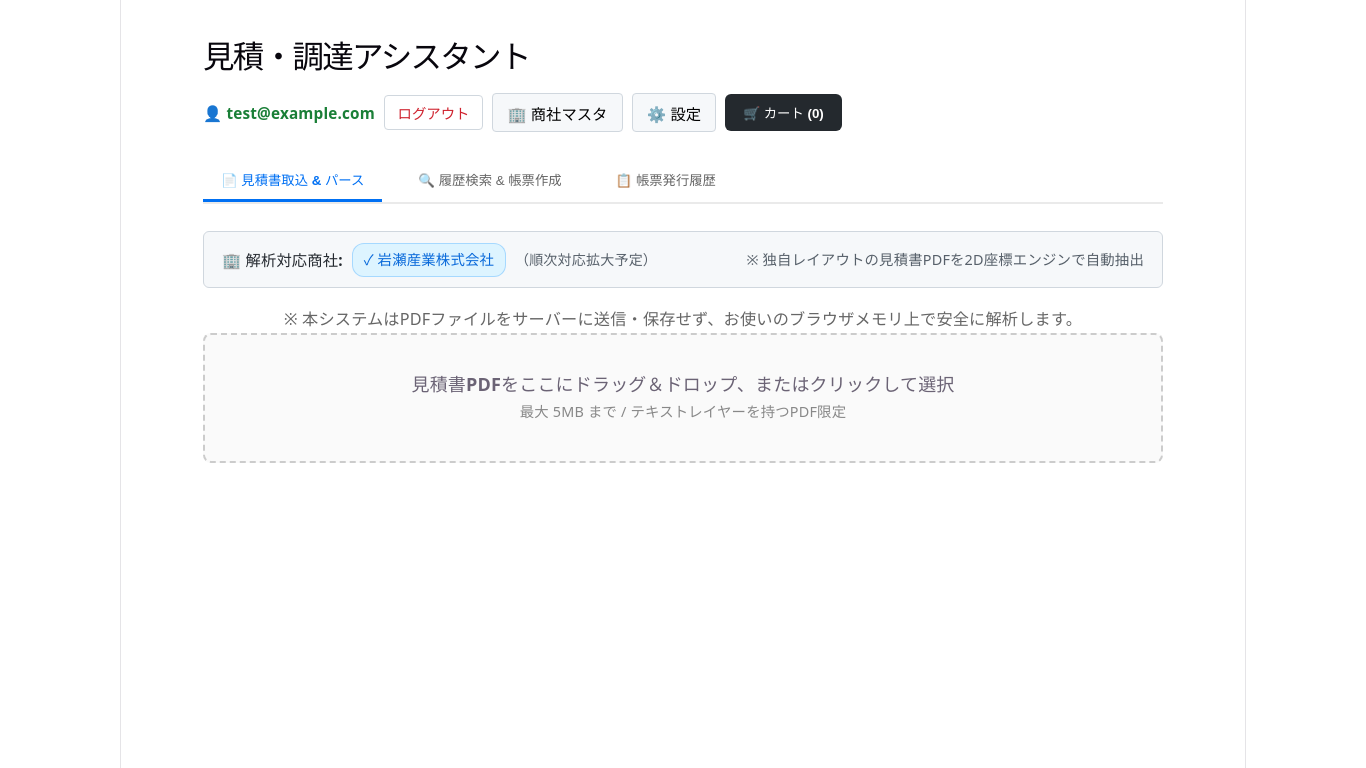
Test: Phase 9 カバレッジ補完テスト: App.tsx & ガードレール検証 › 設定モーダルの開閉およびログイン状態の表示が動作すること (REQ-012, REQ-017)
Expected: the text "👤 test@example.com" is shown, top-left (203, 100), bottom-right (375, 126)
Click the button "⚙️ 設定".
click(674, 113)  # box top-left (632, 93), bottom-right (716, 132)
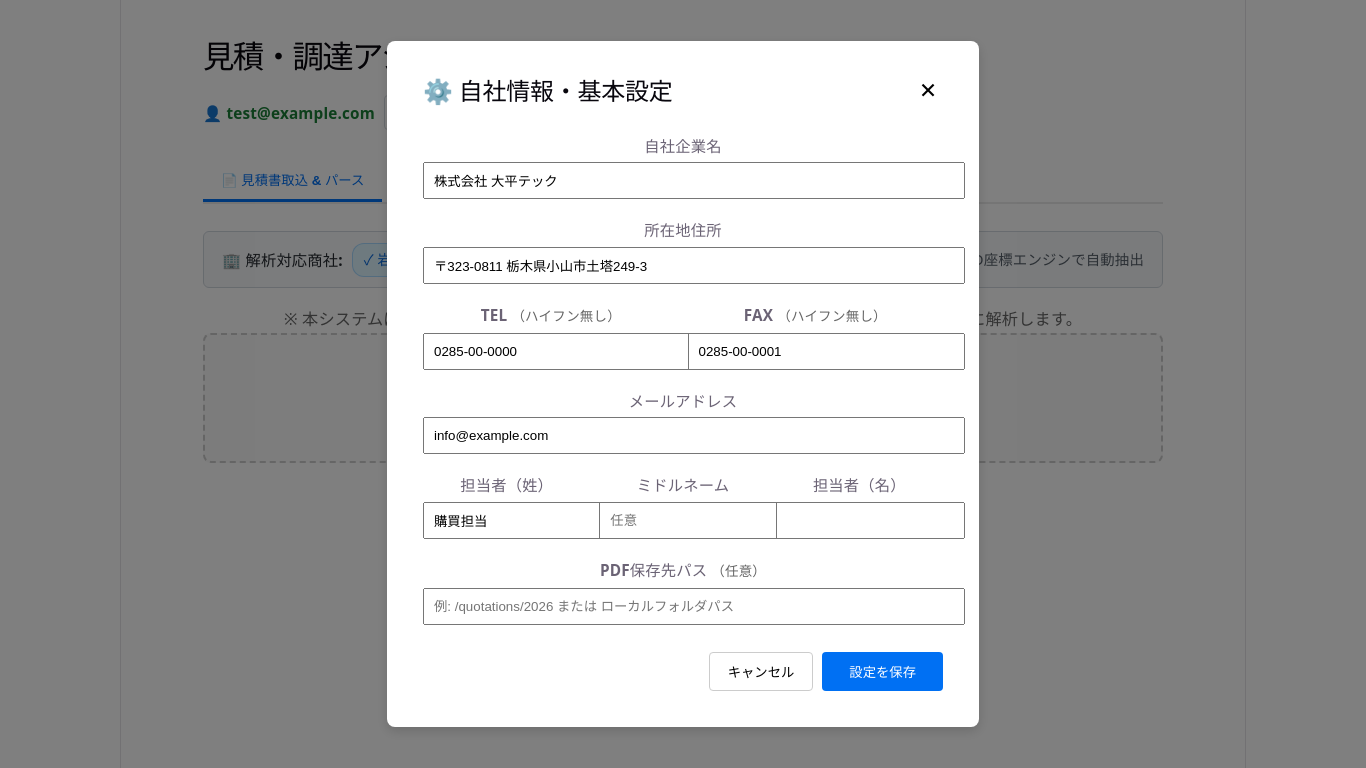
Expected: the heading "⚙️ 自社情報・基本設定" is shown, top-left (423, 77), bottom-right (672, 106)
